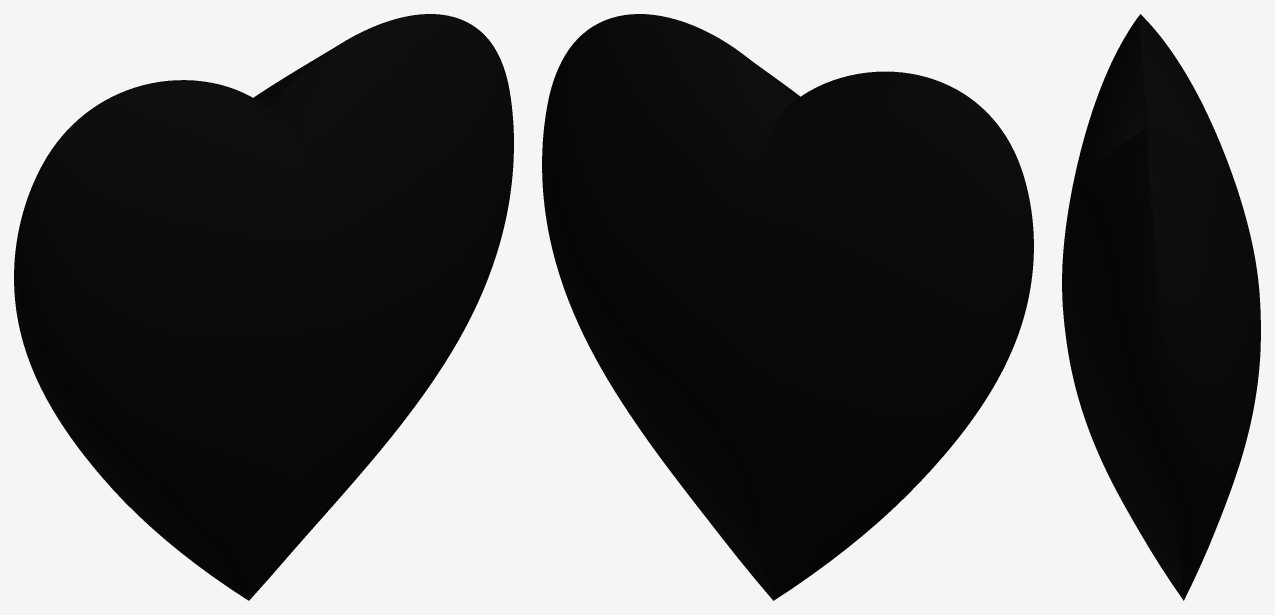
Rendered from heart.fbx.
3 renders of one model, left to right at view 1: azimuth 30°, elevation 25°; view 2: azimuth 150°, elevation 25°; view 3: azimuth 270°, elevation 25°, orthographic. The views are drawn at different scales.
Visible parts, largest first — view 1: node_id34; view 2: node_id34; view 3: node_id34.
Boxes of the visible parts, x1,y1,x2,y2 form: node_id34: (14,14,513,600); node_id34: (542,14,1033,600); node_id34: (1062,14,1260,600).
Size of the model in its own units: 0.332 by 0.3564 by 0.1244.
Materials: 1 (1 with a texture image).
